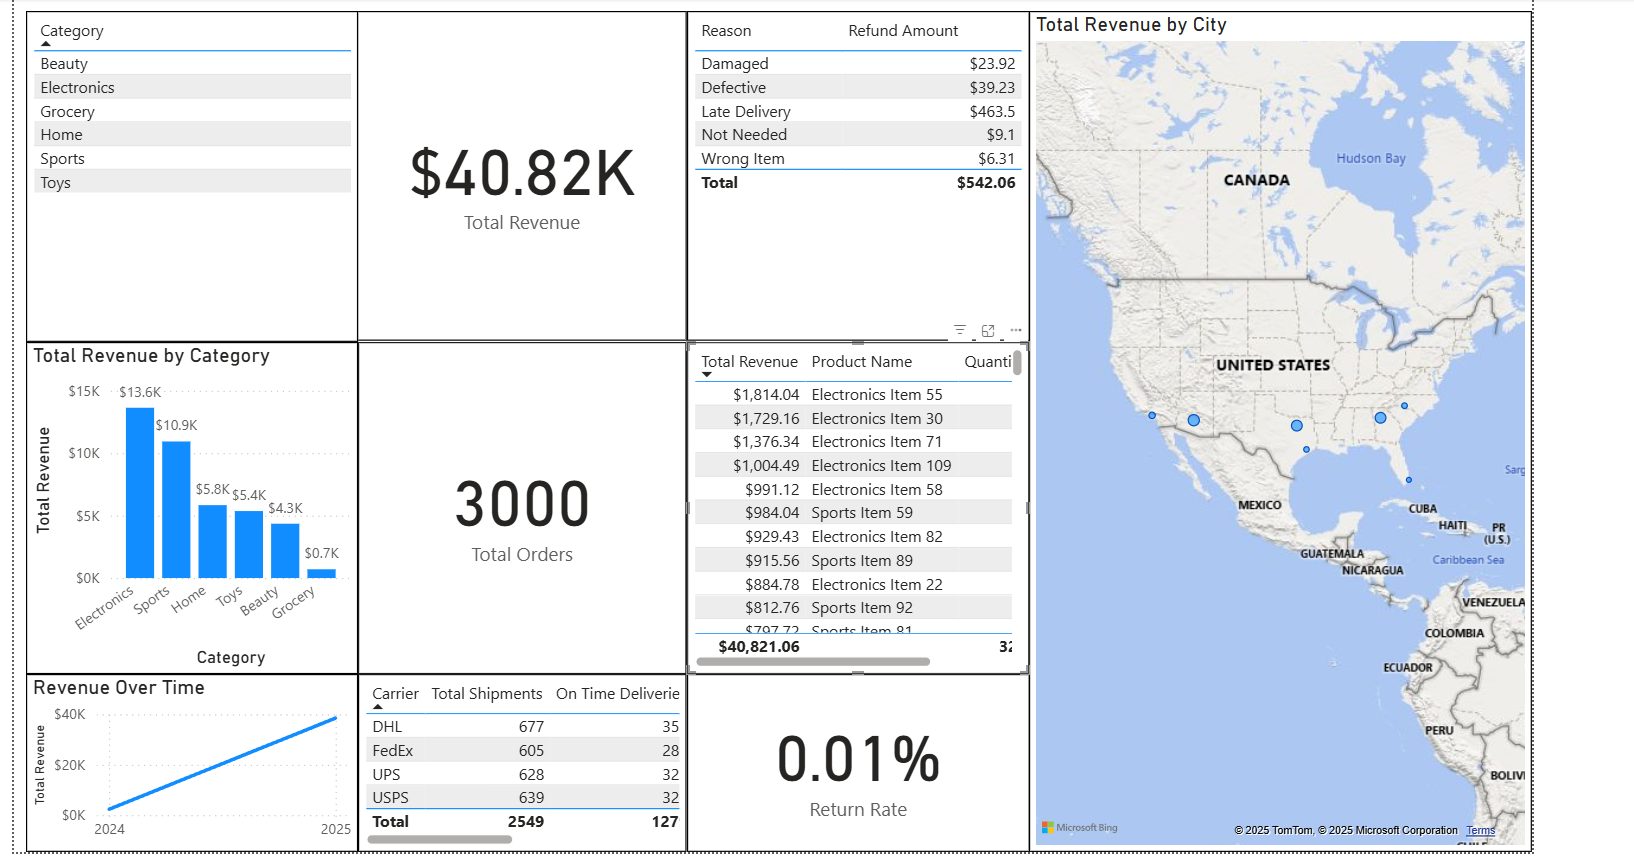

This screenshot's page, from the dashboard's own definition file:
{"tool":"powerbi","page":{"name":"Page 1","canvas":[1280,720],"ordinal":0},"visuals":[{"type":"card","fields":{"Values":["customers_cleaned.Total Revenue"]},"box":[289.3,10.8,278.4,278.4],"z":0},{"type":"clusteredColumnChart","fields":{"Category":["products_cleaned.category"],"Y":["customers_cleaned.Total Revenue"]},"box":[10,290,280,280],"z":1000},{"type":"lineChart","title":"Revenue Over Time","fields":{"Category":["orders_cleaned.order_date.Variation.Date Hierarchy.Year","orders_cleaned.order_date.Variation.Date Hierarchy.Quarter","orders_cleaned.order_date.Variation.Date Hierarchy.Month","orders_cleaned.order_date.Variation.Date Hierarchy.Day"],"Y":["customers_cleaned.Total Revenue"]},"box":[10,570,280,150],"z":2000},{"type":"tableEx","fields":{"Values":["orders_cleaned.order_date.Variation.Date Hierarchy.Year","orders_cleaned.order_date.Variation.Date Hierarchy.Quarter","orders_cleaned.order_date.Variation.Date Hierarchy.Month","orders_cleaned.order_date.Variation.Date Hierarchy.Day"]},"box":[290,570,277,150],"z":3000},{"type":"tableEx","box":[578,11,278,278],"z":4000},{"type":"tableEx","fields":{"Values":["customers_cleaned.Total Revenue","products_cleaned.product_name","Sum(order_items_cleaned.quantity)","products_cleaned.category"]},"box":[578,290,278,280],"z":5000},{"type":"card","fields":{"Values":["orders_cleaned.Return Rate"]},"box":[578,570,278,150],"z":6000},{"type":"tableEx","fields":{"Values":["products_cleaned.category"]},"box":[0,0,278.2,278.2],"z":7000},{"type":"map","fields":{"Category":["customers_cleaned.city"],"Size":["customers_cleaned.Total Revenue"]},"box":[867,11,278,278],"z":7001}]}

Visuals, with their boxes in screenshot pixels (x1, y1, x2, y2):
card - customers_cleaned.Total Revenue: (353,13,681,340)
clusteredColumnChart - products_cleaned.category x customers_cleaned.Total Revenue: (25,341,354,671)
"Revenue Over Time" lineChart: (25,671,354,848)
tableEx - orders_cleaned.order_date.Variation.Date Hierarchy.Year x orders_cleaned.order_date.Variation.Date Hierarchy.Quarter: (354,671,680,848)
tableEx: (693,13,1021,340)
tableEx - customers_cleaned.Total Revenue x products_cleaned.product_name: (693,341,1021,671)
card - orders_cleaned.Return Rate: (693,671,1021,848)
tableEx - products_cleaned.category: (13,0,340,328)
map - customers_cleaned.city x customers_cleaned.Total Revenue: (1034,13,1361,340)
